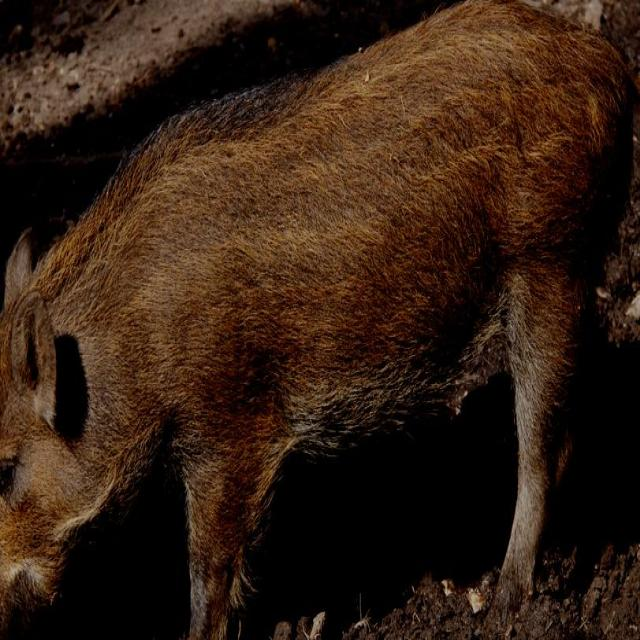pig: (0, 4, 634, 637)
